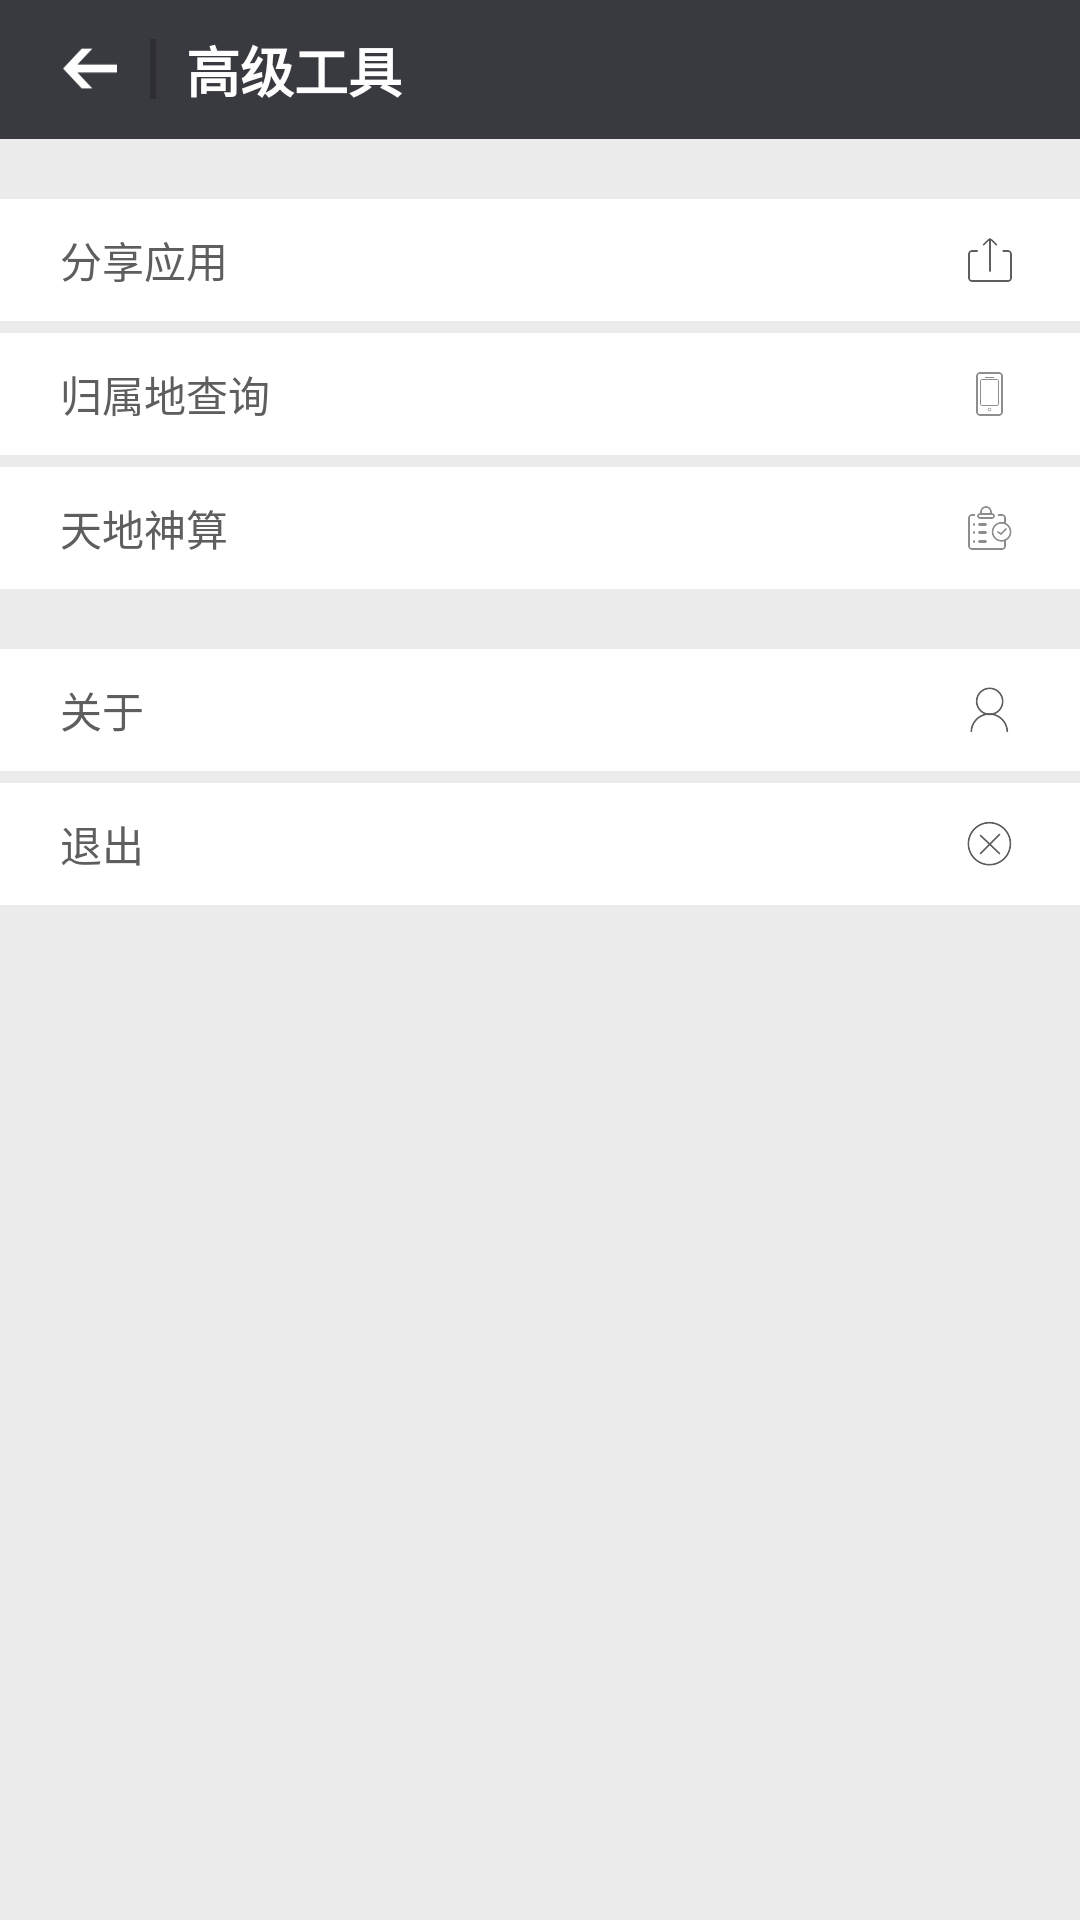

Screen size 1080×1920. Icon name, then its center in pixels as (x,y):
back: (90,68)
exit: (989,844)
guishudi: (989,394)
share: (990,260)
